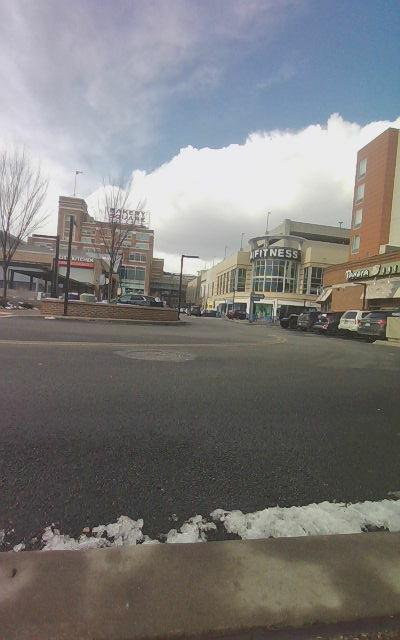curb: (0, 533, 399, 639)
road: (0, 314, 399, 550)
